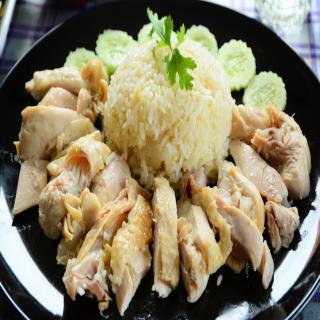carbs: (150, 90, 224, 164), (114, 63, 149, 161), (200, 50, 221, 89), (105, 64, 114, 143), (225, 81, 232, 142)
chicken_rice: (9, 15, 320, 316)
meat: (109, 164, 274, 299), (13, 66, 108, 243), (235, 107, 312, 174), (61, 240, 111, 304), (274, 174, 312, 246)
veg: (150, 12, 198, 90), (248, 73, 289, 110), (222, 39, 254, 82), (97, 26, 135, 59), (188, 20, 218, 50), (139, 22, 177, 41), (66, 49, 106, 63)
